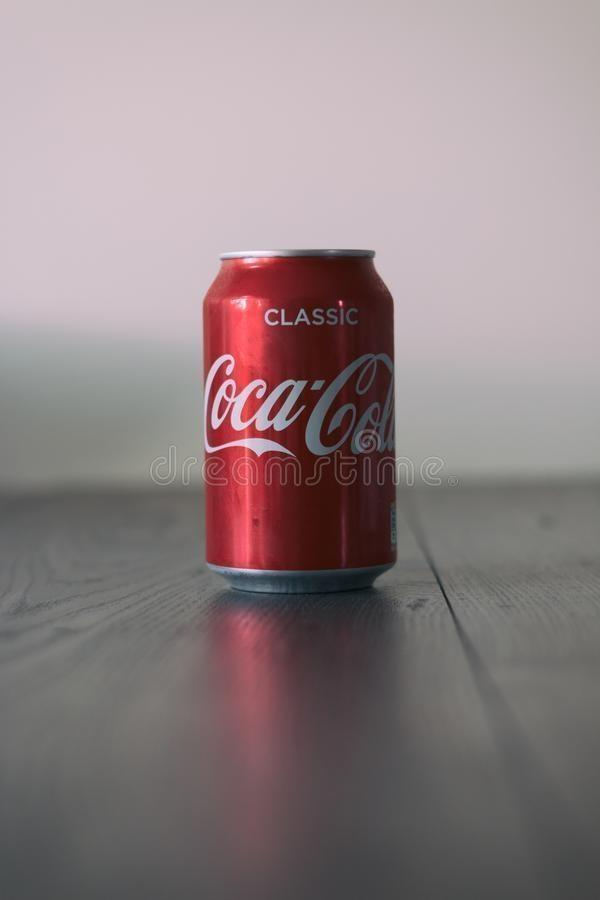tin can: (199, 242, 399, 596)
